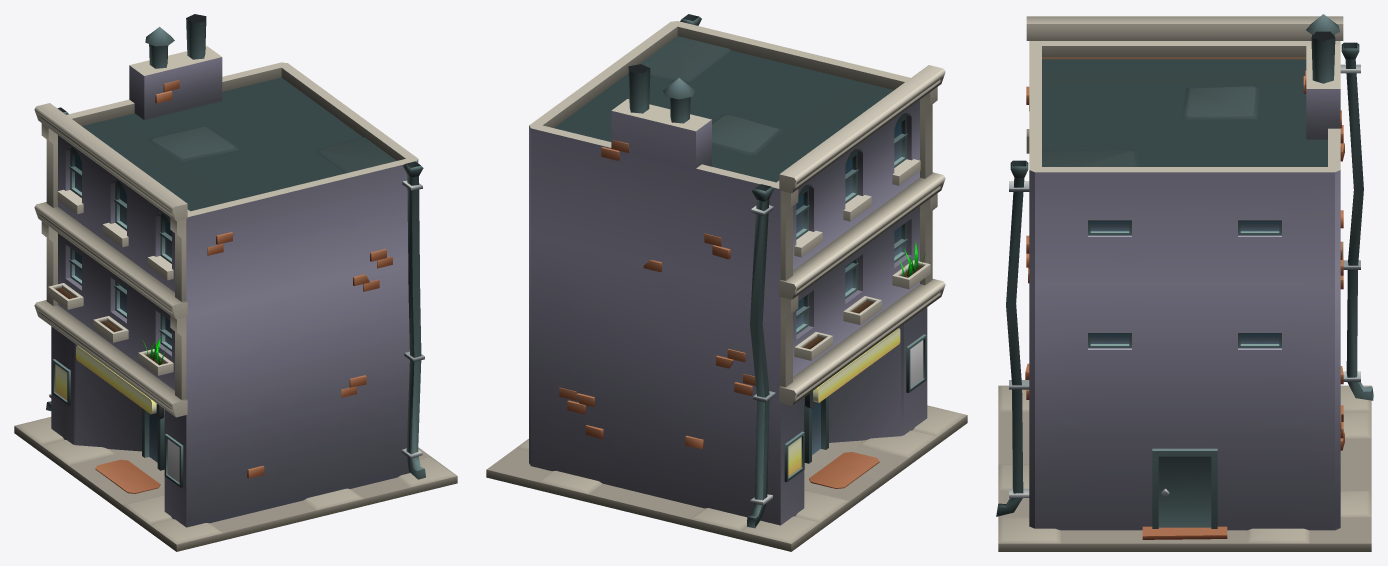
File: Building_1A.fbx
The picture shows the model from 3 angles, left to right: view 1: azimuth 30°, elevation 25°; view 2: azimuth 150°, elevation 25°; view 3: azimuth 270°, elevation 25°; orthographic projection. The views are drawn at different scales.
Visible parts, largest first — view 1: Building_1A; view 2: Building_1A; view 3: Building_1A.
Part boxes in pixels (x1,y1,x2,y2): Building_1A: (14,14,457,551); Building_1A: (486,14,967,551); Building_1A: (996,14,1373,551).
Size of the model in its own units: 366 by 487 by 370.
